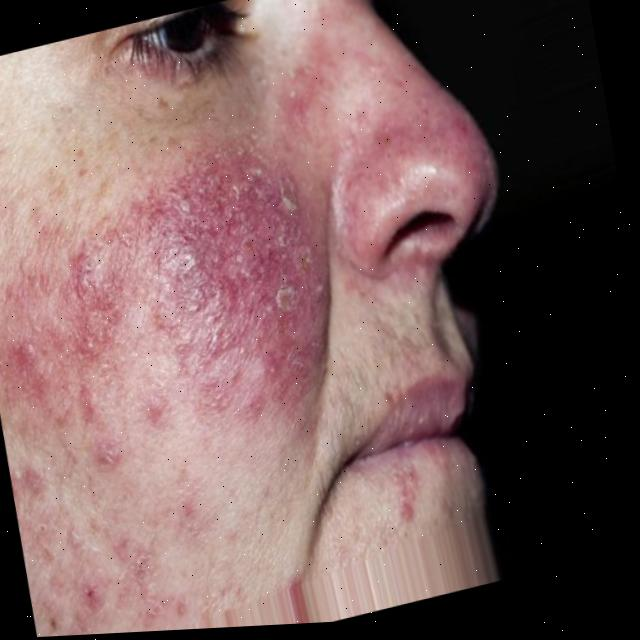Rosacea: (0, 164, 326, 489), (297, 17, 479, 206)
